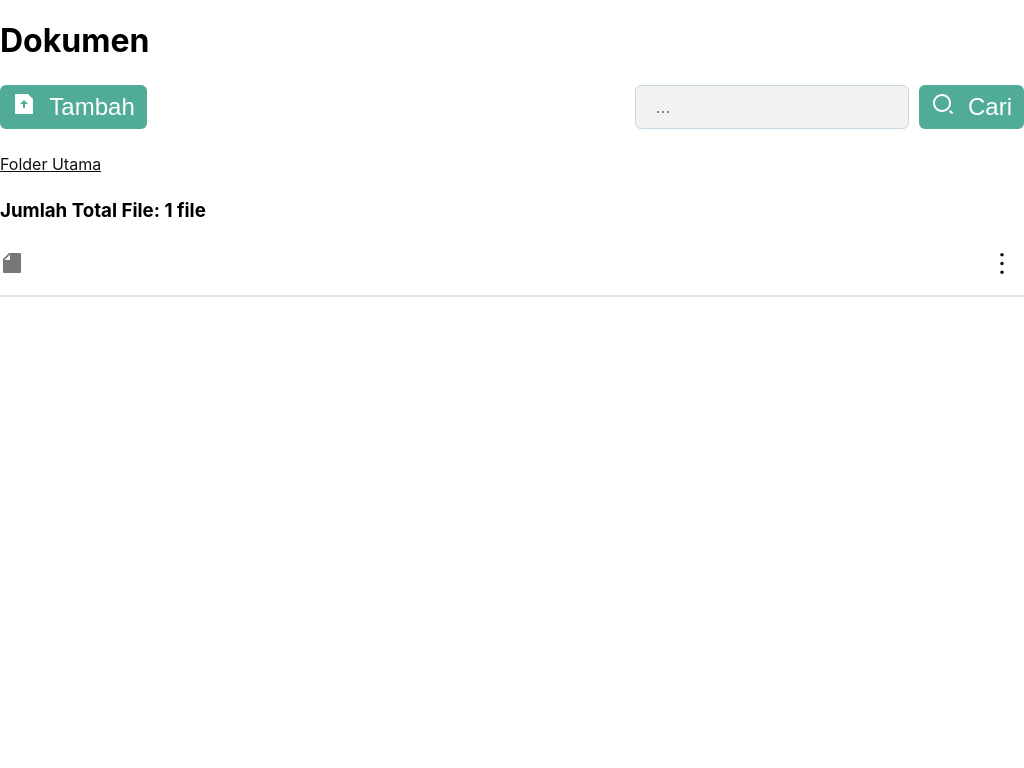
Admin successfully remove file
This screenshot has width=1024, height=768.
Click the button with test id "docs-detail-btn": (1002, 263) [980, 241, 1023, 285]
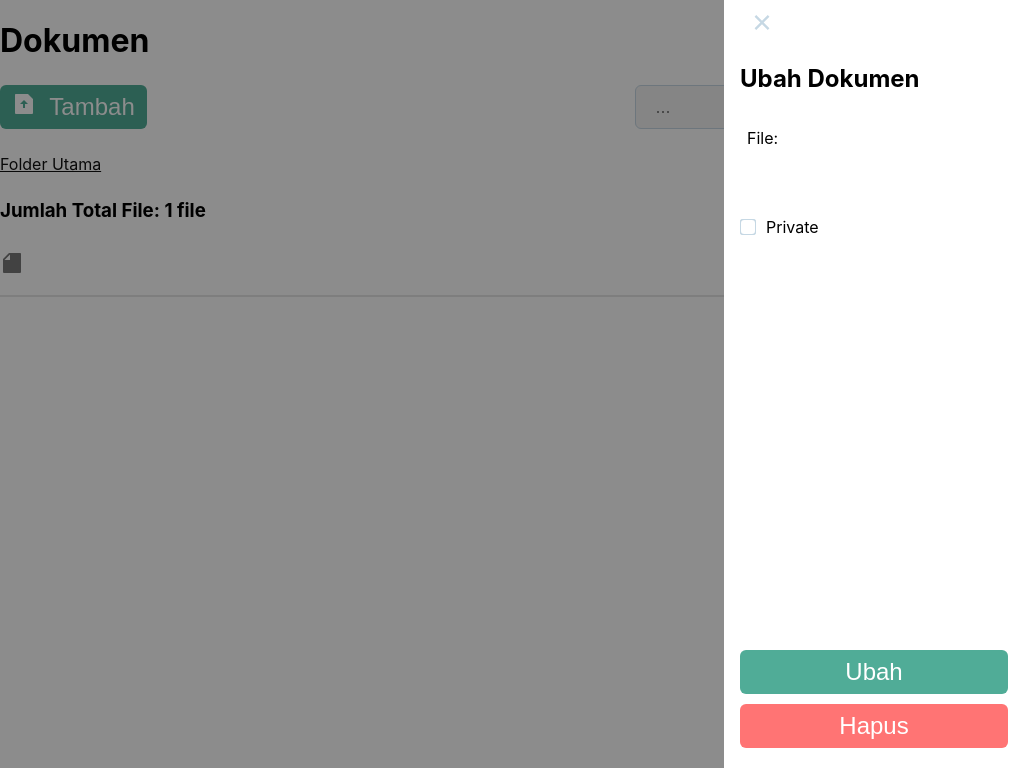
Check: the button with test id "remove-file-btn" is shown
Click the button with test id "remove-file-btn": (874, 726) [740, 704, 1008, 748]
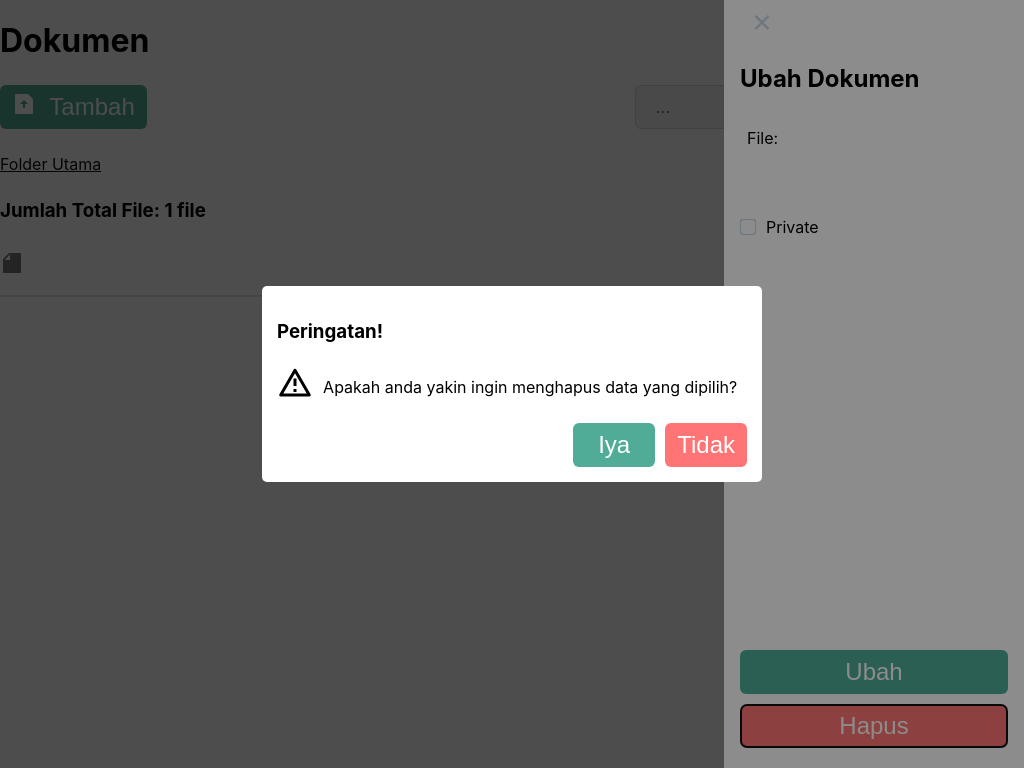
Check: the button with test id "popup-modal-conf-btn" is shown
Click the button with test id "popup-modal-conf-btn": (614, 445) [573, 423, 655, 467]
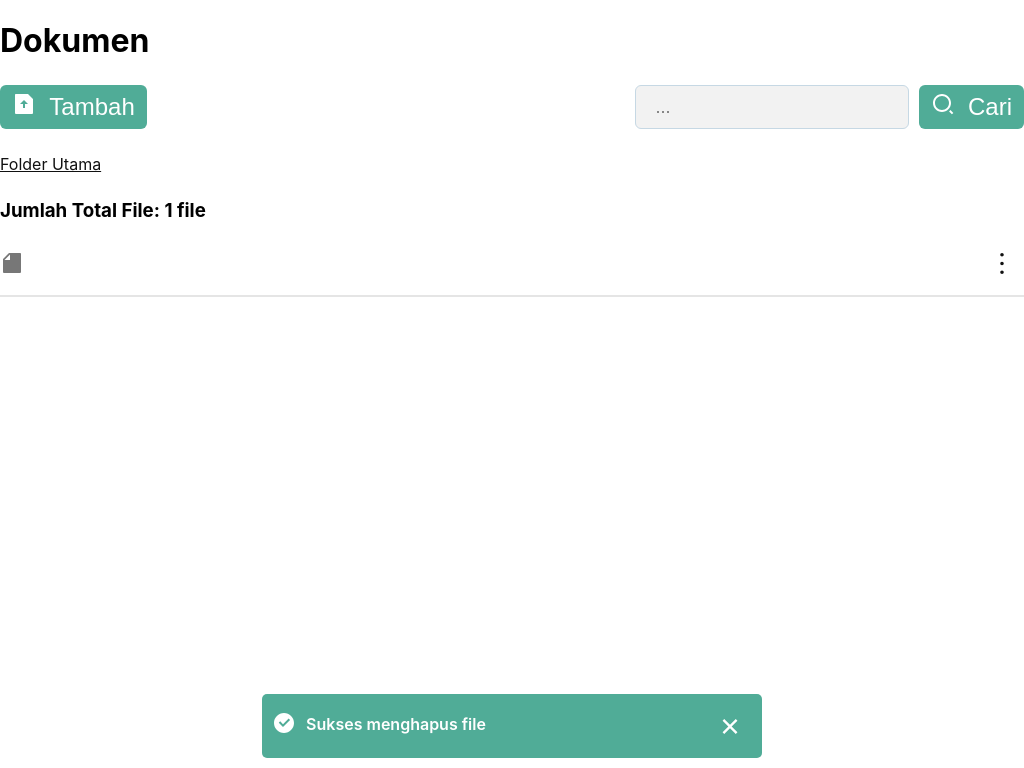
Check: the button with test id "popup-modal-conf-btn" is gone
